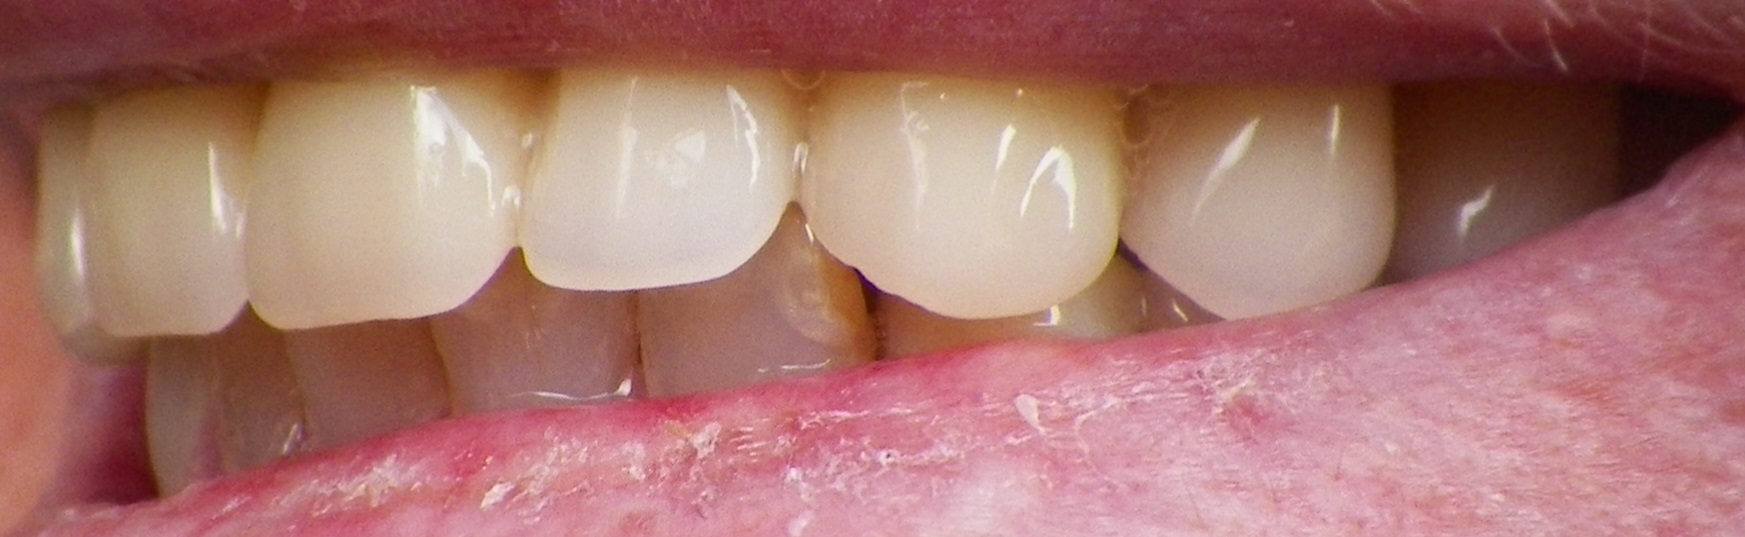boca: (28, 57, 1652, 464)
